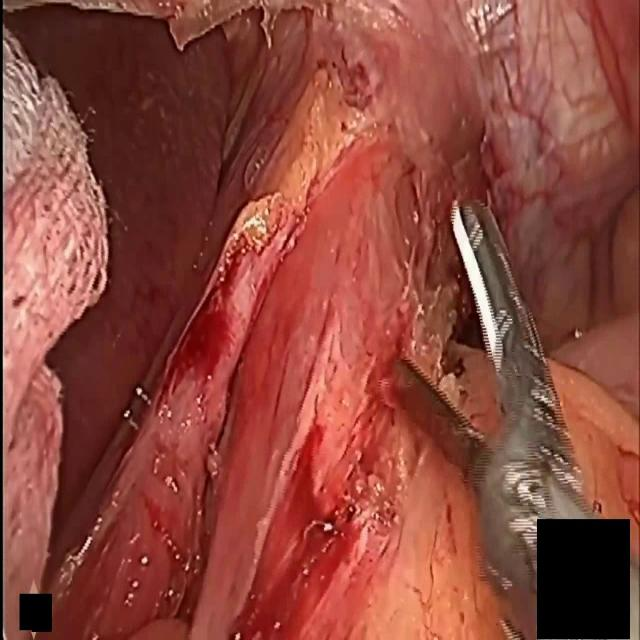surgical-area: (2, 0, 640, 639)
surgical-tool: (392, 196, 592, 639)
